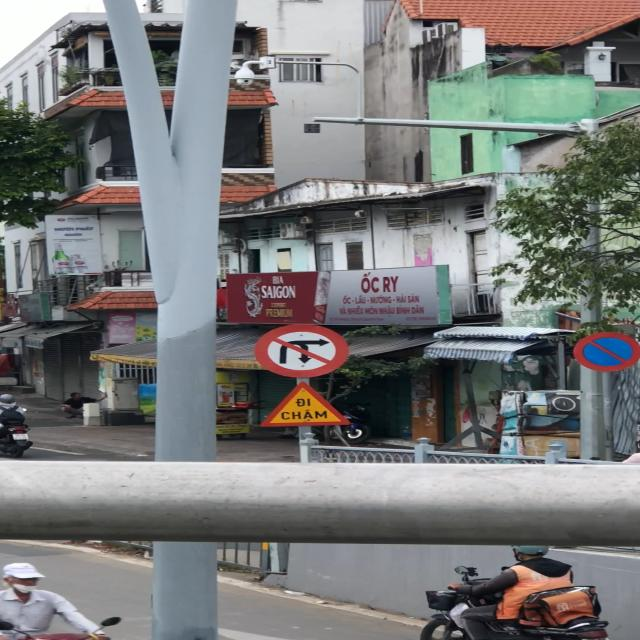Bien bao cam re phai va quay dau: (251, 322, 353, 381)
